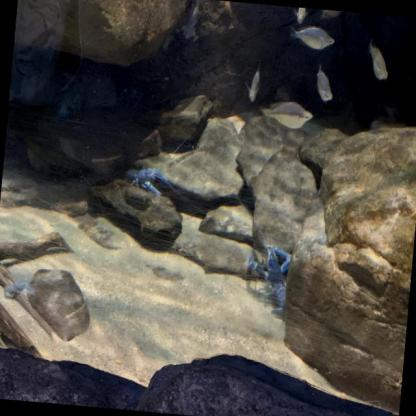fish: (260, 96, 314, 132), (288, 25, 335, 52), (365, 37, 392, 82), (314, 64, 337, 103), (244, 63, 264, 104), (320, 9, 346, 23), (293, 7, 310, 26)
